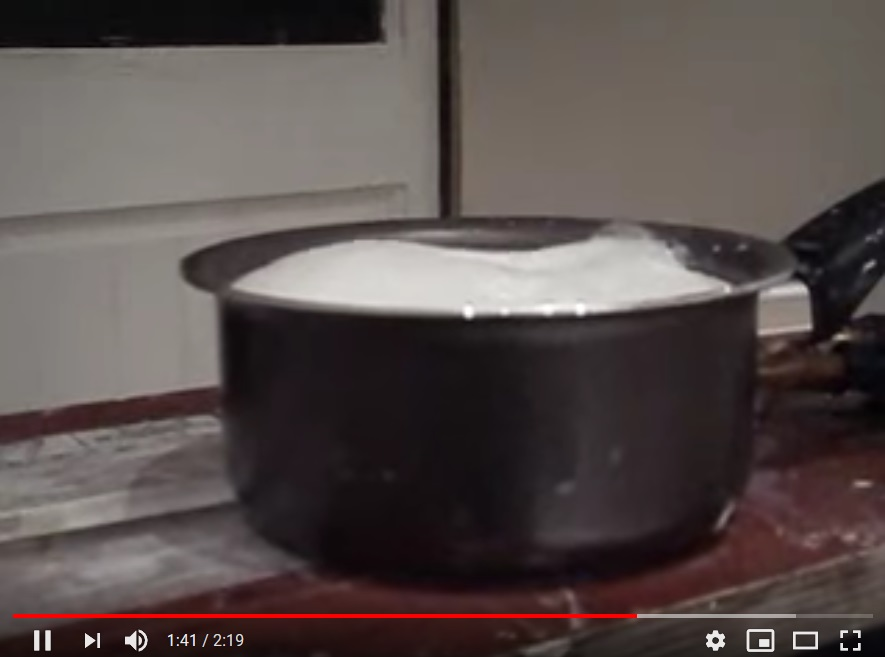Steaming: (179, 210, 768, 552)
